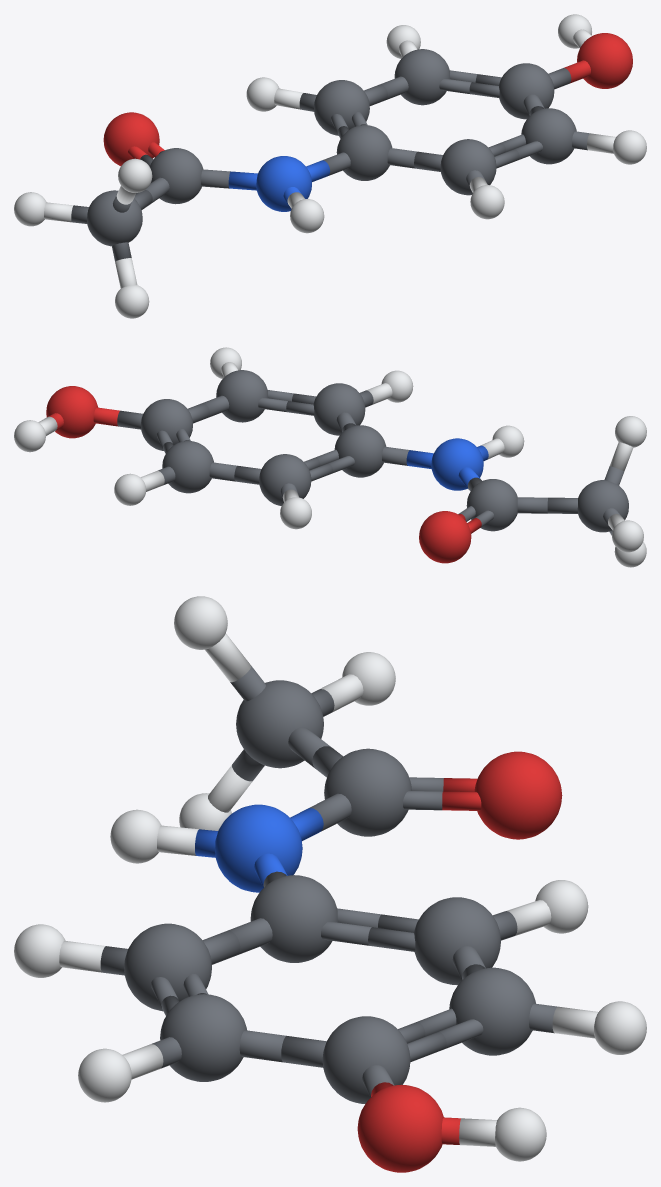
File: acetaminophen.glb
The picture shows the model from 3 angles, top to bottom: view 1: azimuth 30°, elevation 25°; view 2: azimuth 150°, elevation 25°; view 3: azimuth 270°, elevation 25°; orthographic projection. The views are drawn at different scales.
Parts seen in each view (by area): view 1: acetaminophen; view 2: acetaminophen; view 3: acetaminophen.
Part boxes in pixels (x1,y1,x2,y2): acetaminophen: (14, 14, 646, 318); acetaminophen: (14, 347, 646, 567); acetaminophen: (14, 596, 646, 1172).
Size of the model in its own units: 9.22 by 2.23 by 5.17.
